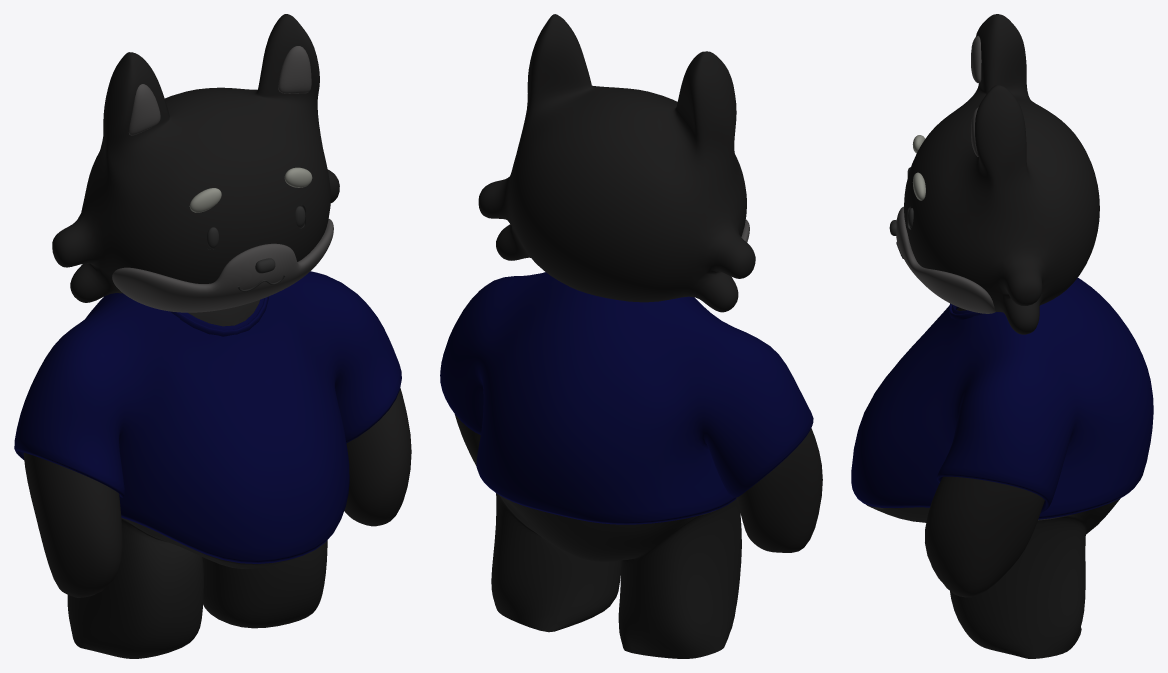
The model's file is şişman siyah.fbx.
3 views of the same model, side by side, from view 1: azimuth 30°, elevation 25°; view 2: azimuth 150°, elevation 25°; view 3: azimuth 270°, elevation 25° (orthographic). The views are drawn at different scales.
Parts seen in each view (by area): view 1: Cube.009, Cube, Cube.010, Cube.001, Cube.002, Cube.003, Cube.006; view 2: Cube.009, Cube, Cube.010, Cube.001; view 3: Cube.009, Cube, Cube.010, Cube.001, Cube.002, Cube.003, Cube.006.
Part boxes in pixels (box(x1,y1,x2,y2)): Cube.009: box(14, 271, 401, 563); Cube: box(52, 14, 339, 302); Cube.010: box(67, 517, 327, 658); Cube.001: box(23, 300, 411, 597); Cube.002: box(112, 219, 333, 312); Cube.003: box(128, 46, 311, 135); Cube.006: box(189, 167, 312, 212); Cube.009: box(440, 272, 813, 524); Cube: box(478, 14, 755, 312); Cube.010: box(491, 493, 741, 658); Cube.001: box(454, 414, 822, 552); Cube.009: box(851, 278, 1153, 519); Cube: box(904, 14, 1099, 334); Cube.010: box(866, 498, 1120, 658); Cube.001: box(882, 307, 1090, 597); Cube.002: box(896, 206, 995, 313); Cube.003: box(971, 35, 981, 156); Cube.006: box(912, 135, 925, 200).
Bounding box in the file's own units: 193 × 301 × 148.
